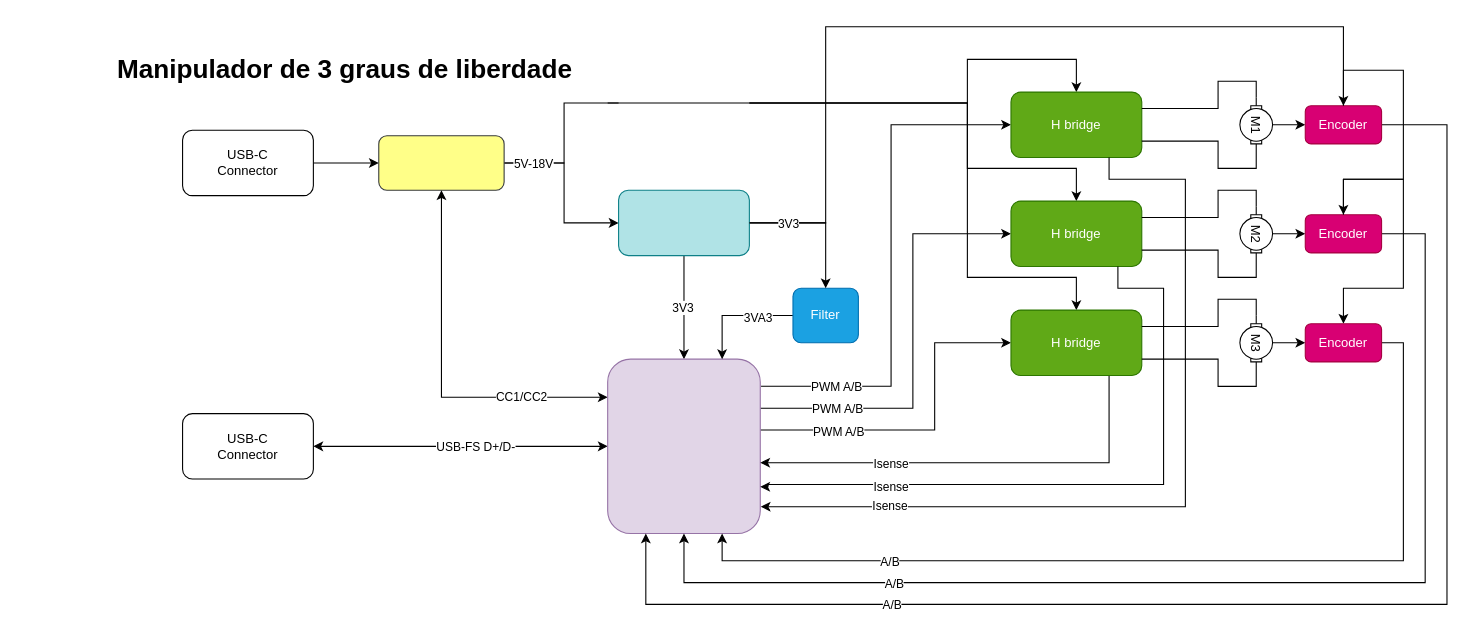
This 1475x632 diagram has some shape labels left out. The centre of each missing label's shape, as x and y in pixels:
"Buck Converter" belongs at (683,222).
"Microcontrolador STM32G4xxx" belongs at (683,446).
"USB PD" belongs at (441,162).
